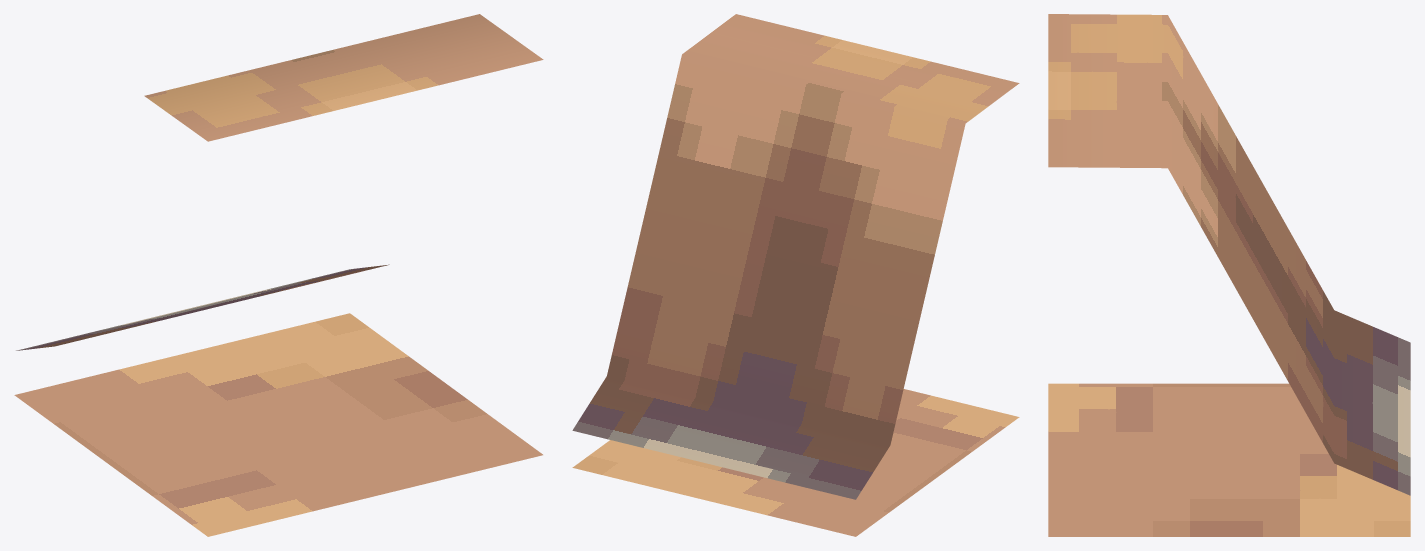
The picture shows the model from 3 angles, left to right: view 1: azimuth 30°, elevation 25°; view 2: azimuth 150°, elevation 25°; view 3: azimuth 270°, elevation 25°; orthographic projection. The views are drawn at different scales.
Bounding box in the file's own units: 1 × 1.12 × 1.
3 materials, 3 textured.
